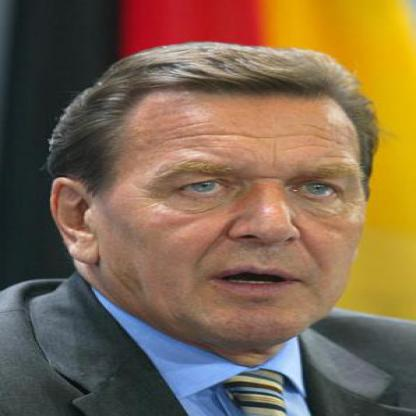face: (93, 48, 379, 352)
